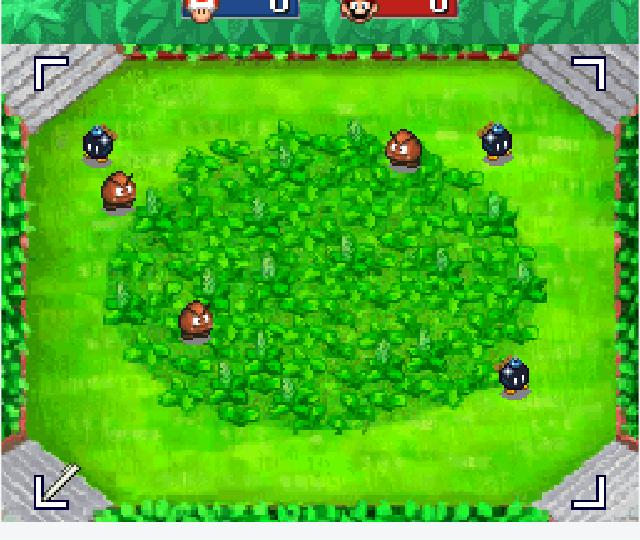bomb: (491, 351, 539, 403), (475, 118, 519, 168), (78, 120, 120, 168)
goomba: (95, 168, 144, 219), (379, 125, 429, 174), (174, 298, 218, 348)
